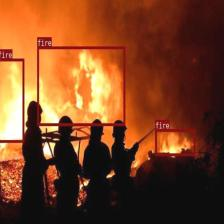fire: (37, 46, 125, 125), (0, 58, 24, 142), (155, 128, 195, 156)
